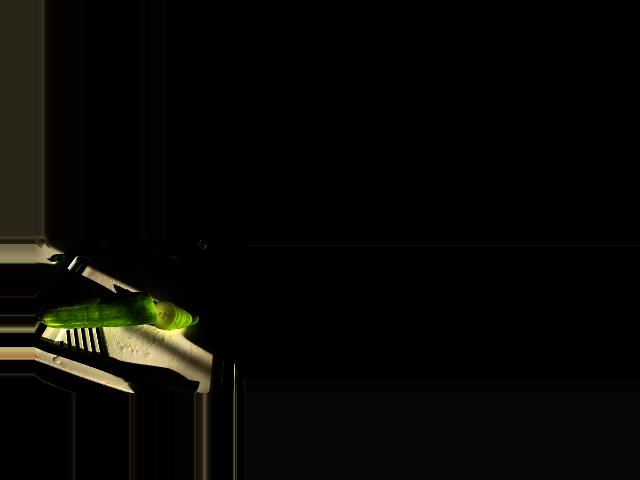cucumber: (38, 292, 158, 329)
